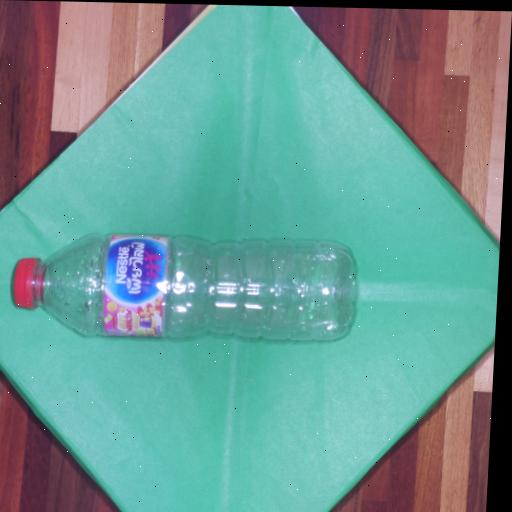bottle: (14, 235, 354, 340)
